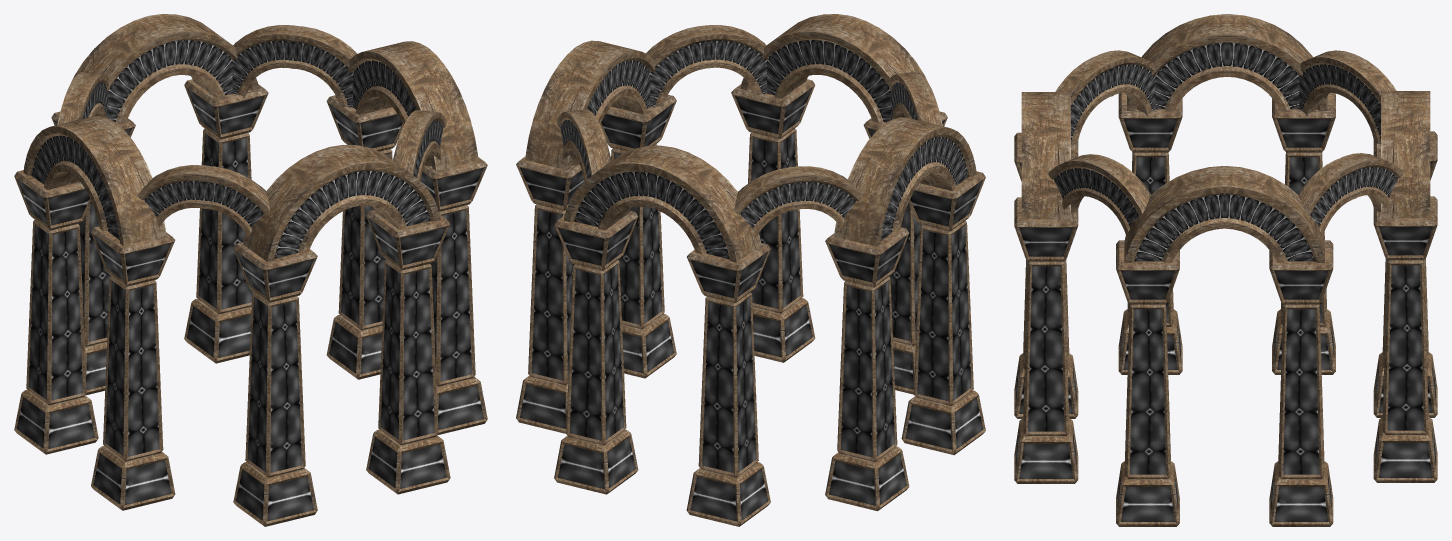
The model's file is column6.FBX.
3 views of the same model, side by side, from view 1: azimuth 30°, elevation 25°; view 2: azimuth 150°, elevation 25°; view 3: azimuth 270°, elevation 25° (orthographic).
Visible parts, largest first — view 1: Box026; view 2: Box026; view 3: Box026.
Boxes of the visible parts, x1,y1,x2,y2 form: Box026: [14, 14, 487, 526]; Box026: [516, 14, 985, 526]; Box026: [1014, 14, 1437, 526].
Bounding box in the file's own units: 295 × 260 × 295.
